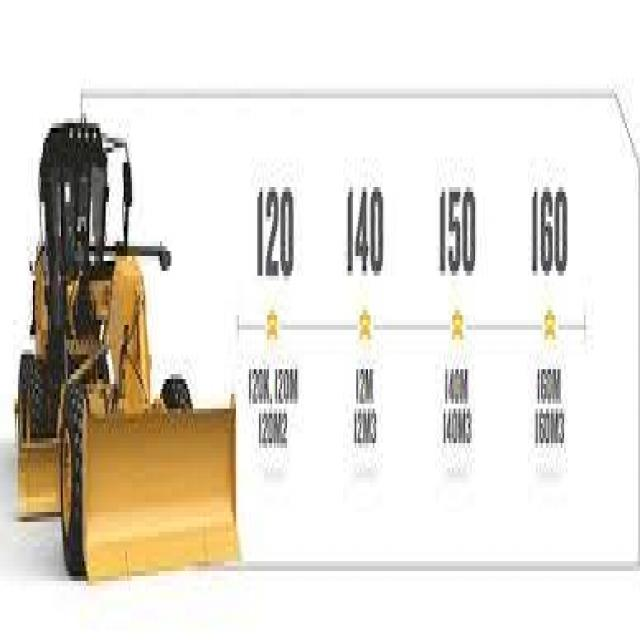Grader: (25, 99, 236, 571)
